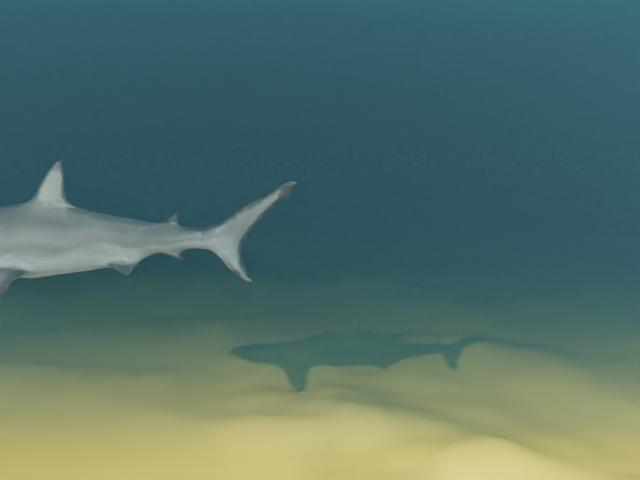Carribean Shark.001: (0, 160, 296, 307)
